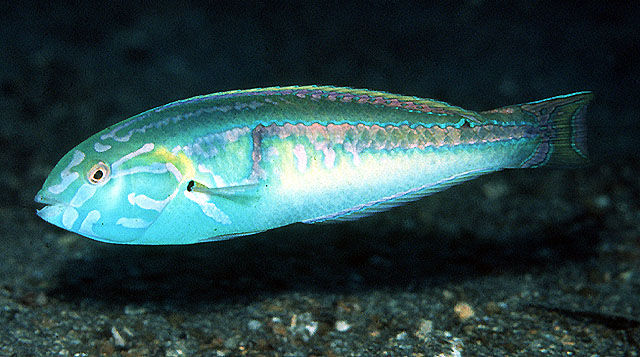fish: (34, 83, 596, 245)
